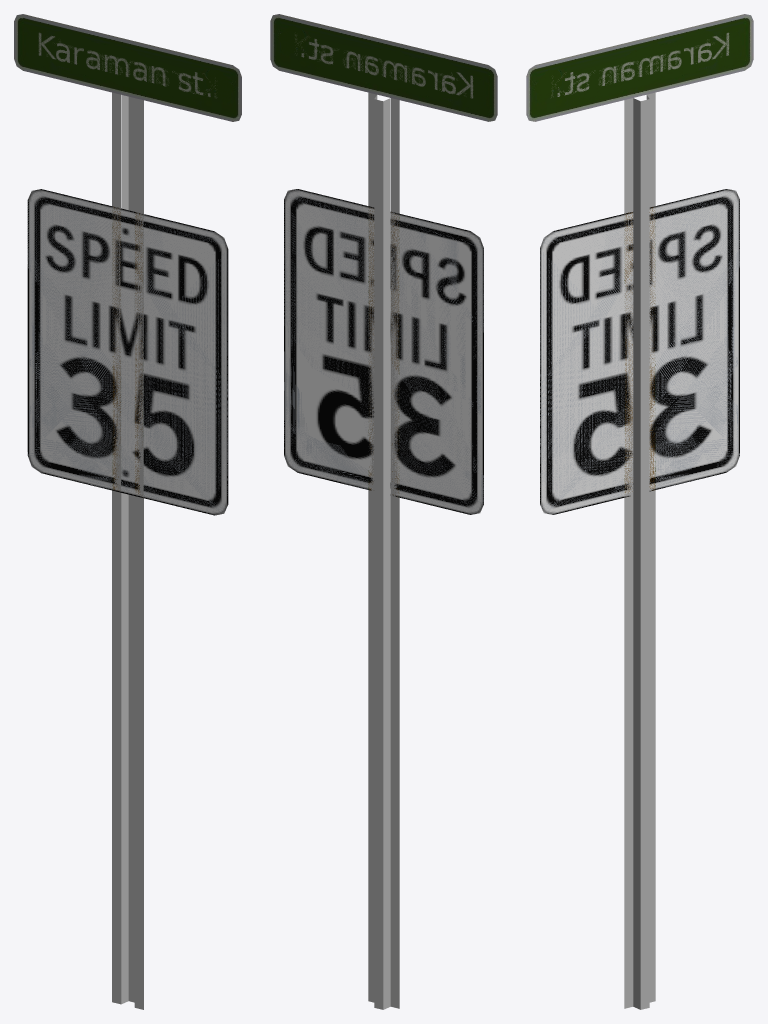
File: karaman-simple.dae
3 views of the same model, side by side, from view 1: azimuth 30°, elevation 25°; view 2: azimuth 210°, elevation 25°; view 3: azimuth 270°, elevation 25° (orthographic).
Parts seen in each view (by area): view 1: group_2, Component_11 (×5), group_1, Component_12, Component_10; view 2: group_2, Component_11 (×5), group_1, Component_10, Component_12; view 3: group_2, Component_11 (×5), group_1, Component_10, Component_12.
Boxes of the visible parts, x1,y1,x2,y2 form: group_2: (27,189,228,515); Component_11 (×5): (112,92,143,1009); group_1: (14,14,241,121); Component_12: (121,95,128,1004); Component_10: (128,96,134,1002); group_2: (284,189,483,514); Component_11 (×5): (368,92,399,1008); group_1: (270,14,497,121); Component_10: (374,99,383,1009); Component_12: (383,98,390,1009); group_2: (540,189,739,514); Component_11 (×5): (624,92,655,1008); group_1: (526,14,753,121); Component_10: (640,99,649,1009); Component_12: (633,98,640,1009).
Bounding box in the file's own units: 12.58 × 21.79 × 102.
